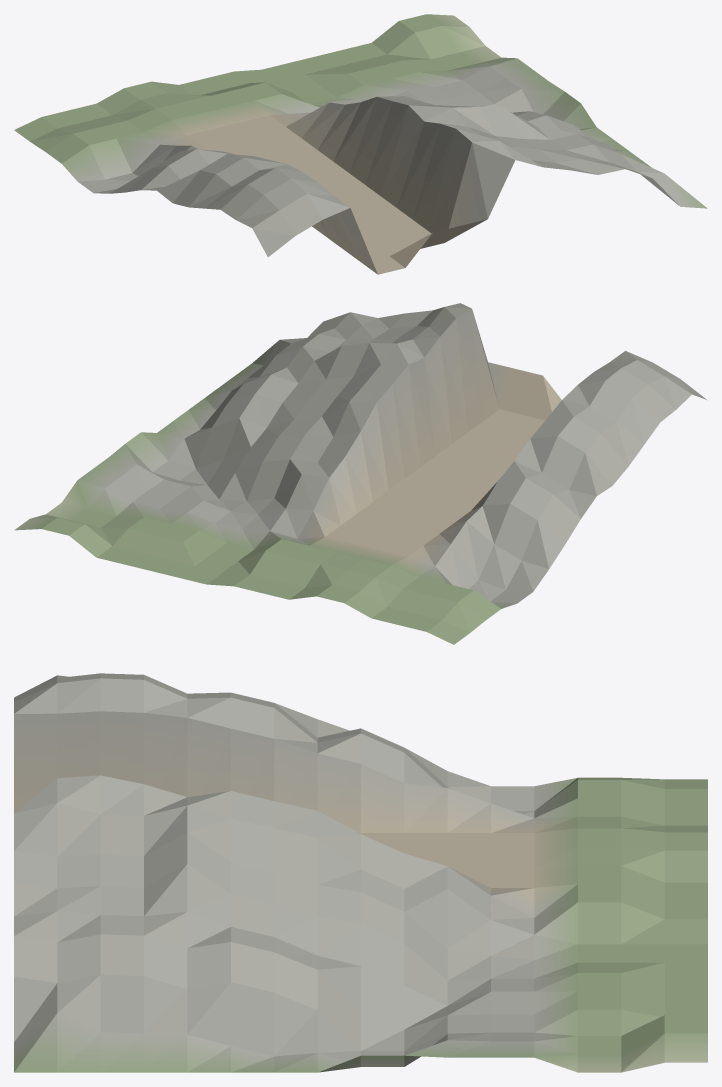
3 renders of one model, top to bottom at view 1: azimuth 30°, elevation 25°; view 2: azimuth 150°, elevation 25°; view 3: azimuth 270°, elevation 25°, orthographic. The views are drawn at different scales.
Size of the model in its own units: 32 by 8.43 by 32.
